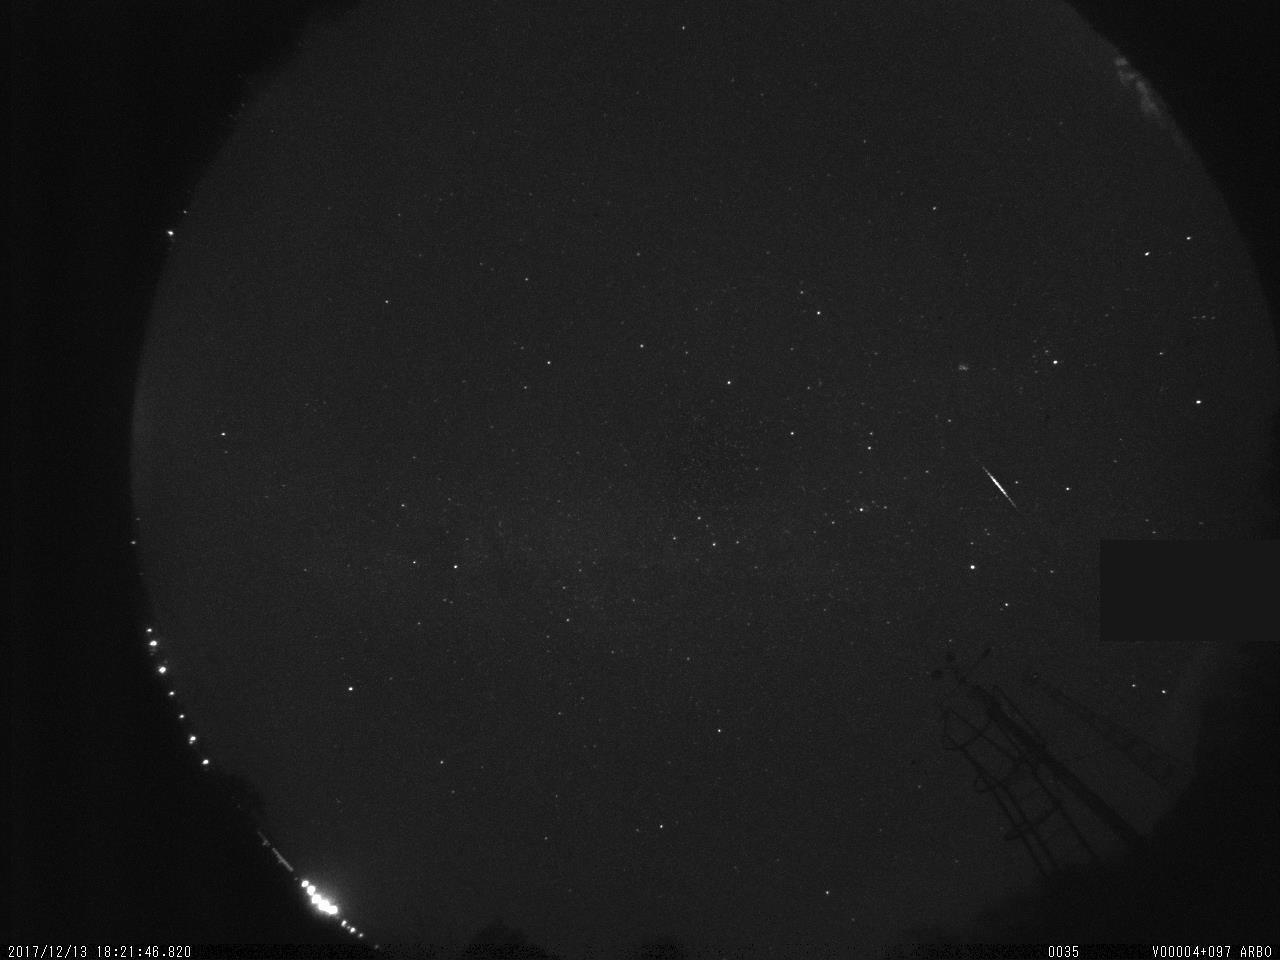meteor: (962, 446, 1043, 525)
